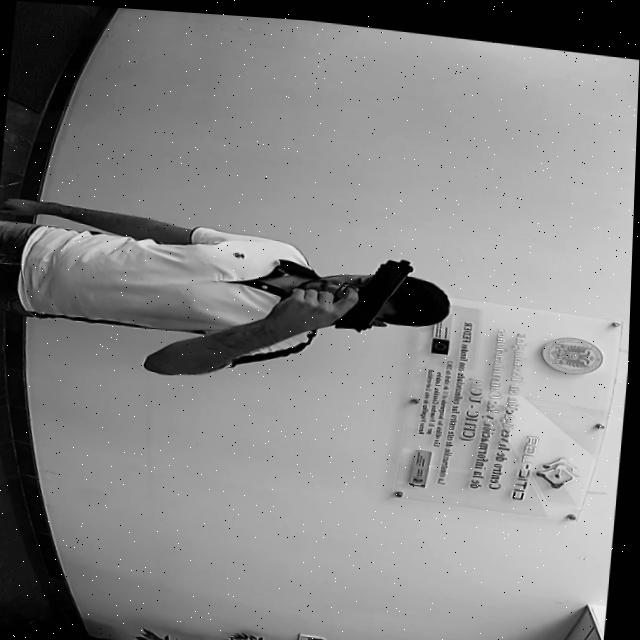pistol: (335, 246, 418, 330)
